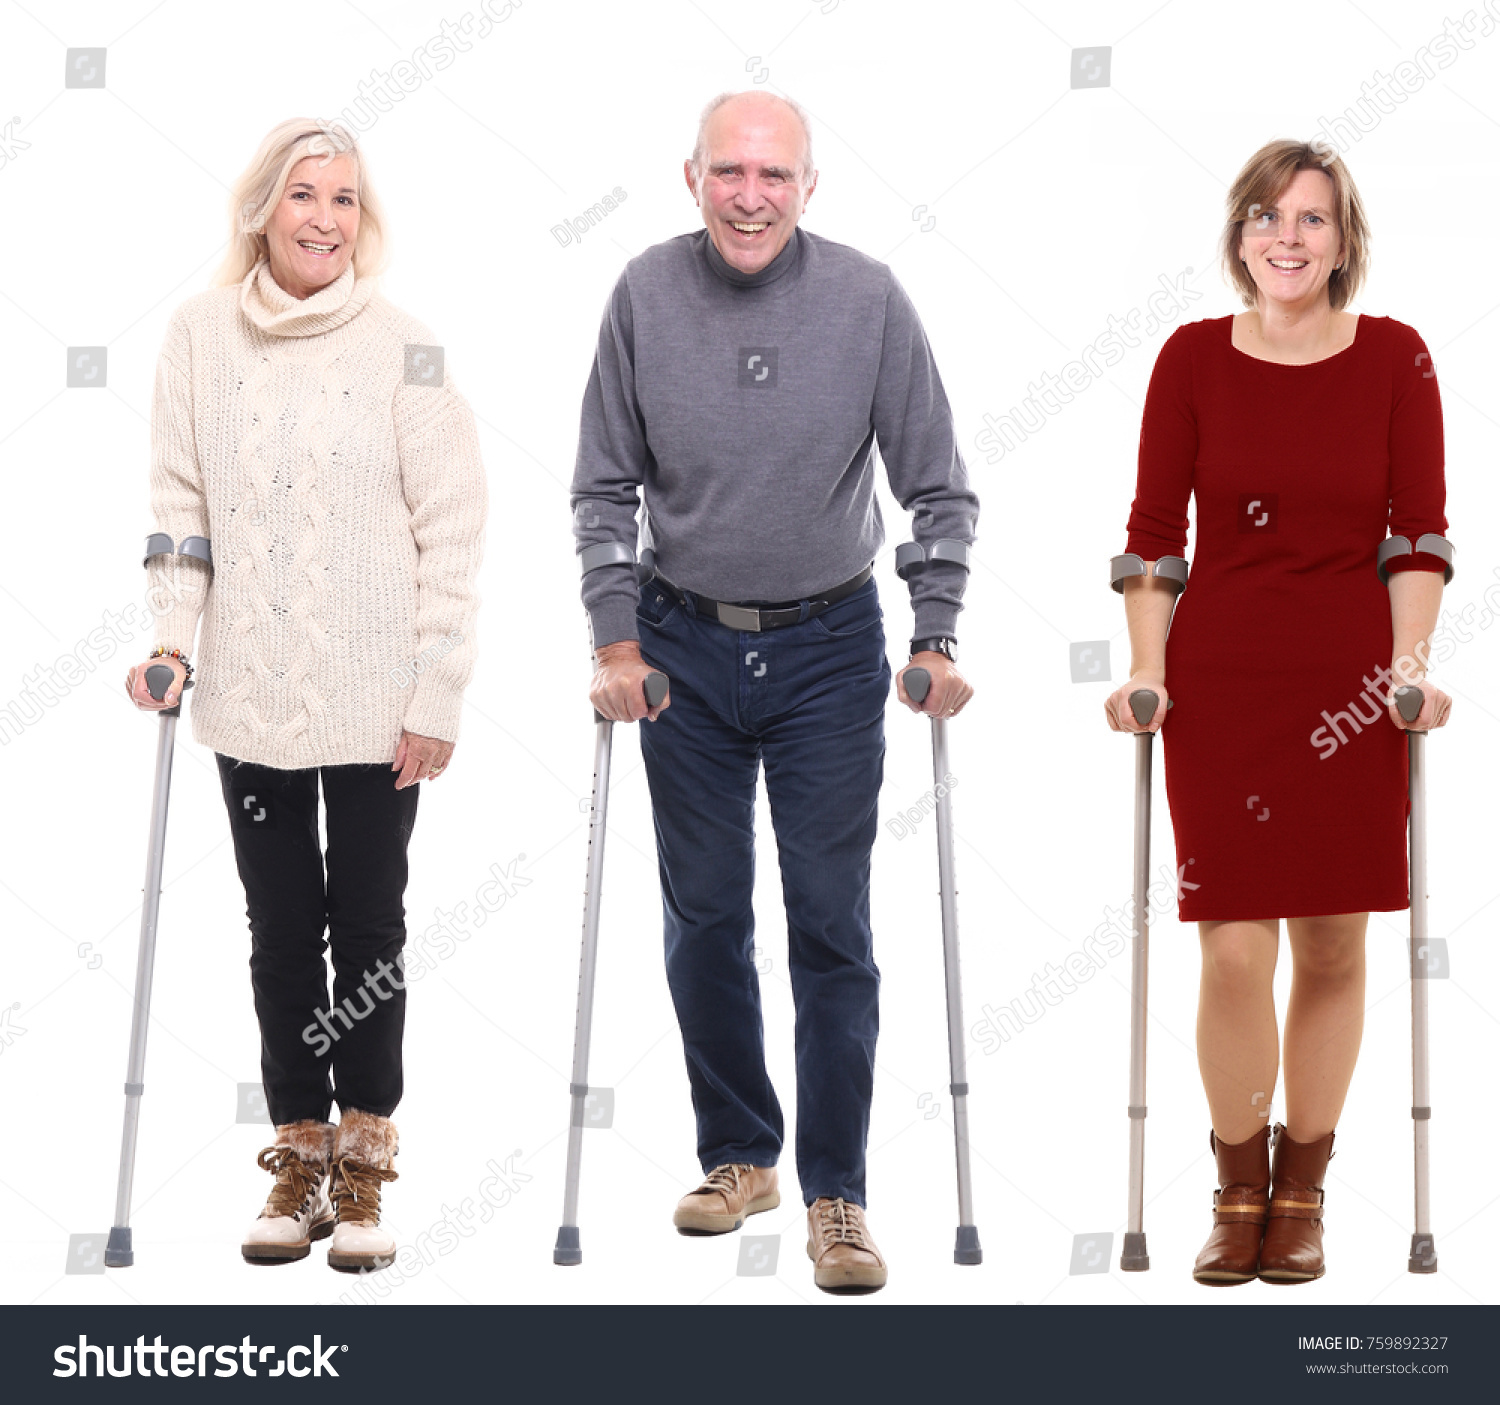crutches: (551, 88, 986, 1291), (106, 114, 491, 1272), (1099, 140, 1456, 1284)
